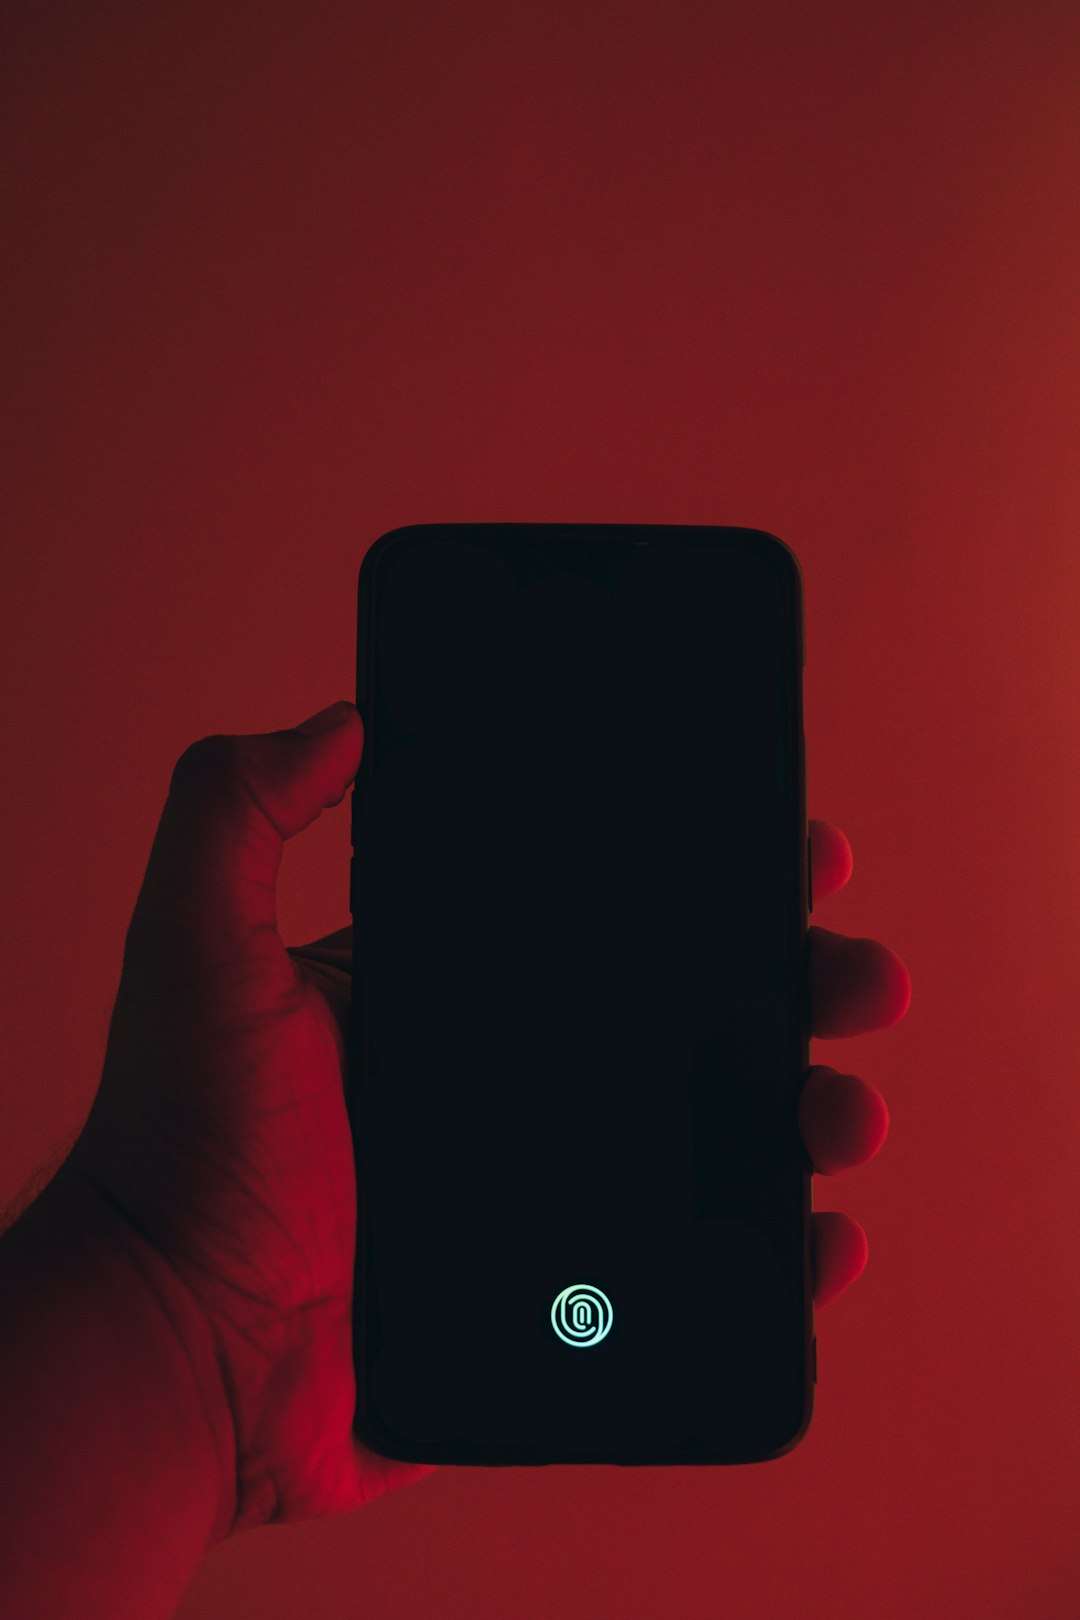phone: (350, 520, 814, 1472)
